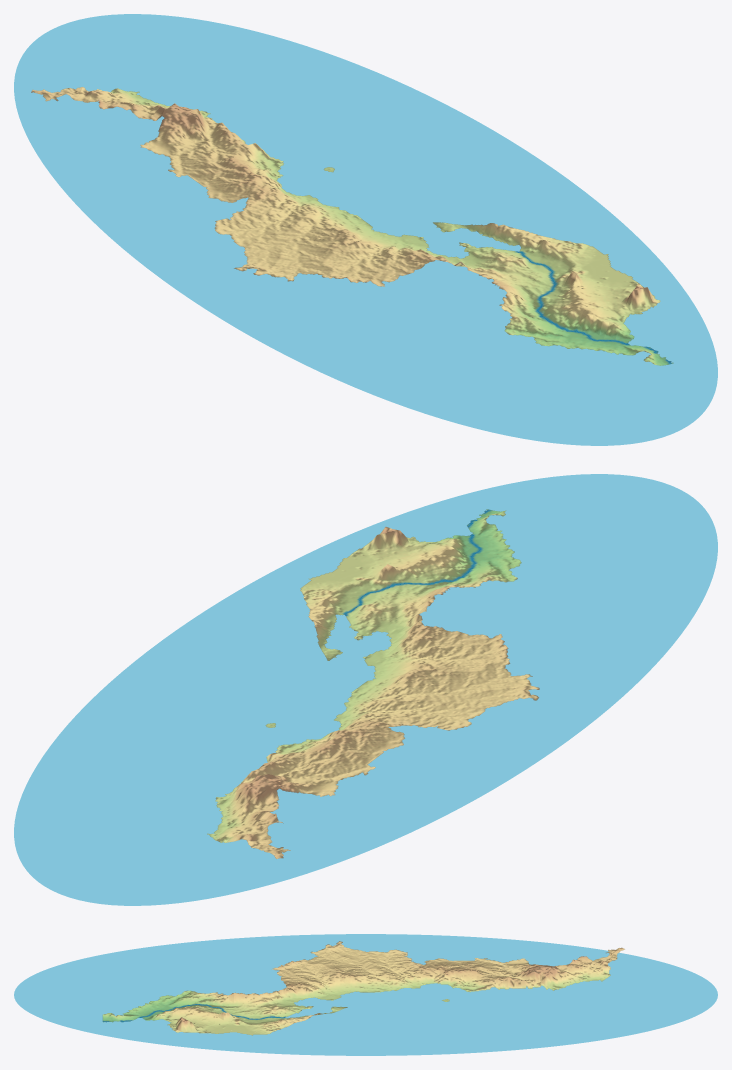
File: MWI-terrain.glb
The picture shows the model from 3 angles, top to bottom: view 1: azimuth 30°, elevation 25°; view 2: azimuth 150°, elevation 25°; view 3: azimuth 270°, elevation 25°; orthographic projection. The views are drawn at different scales.
Parts seen in each view (by area): view 1: Relevo com hidrografia; view 2: Relevo com hidrografia; view 3: Relevo com hidrografia.
Part boxes in pixels (x1,y1,x2,y2): Relevo com hidrografia: (14,14,717,445); Relevo com hidrografia: (14,474,717,905); Relevo com hidrografia: (14,934,717,1055).
Bounding box in the file's own units: 0.8872 × 0.0486 × 2.17.
2 materials, 1 textured.
